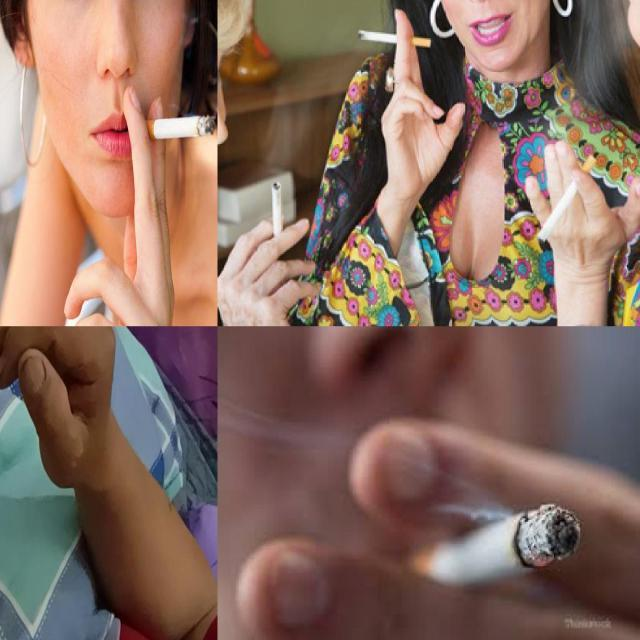smoking: (408, 504, 584, 594), (536, 154, 598, 242), (133, 114, 217, 144), (358, 28, 432, 50), (270, 180, 284, 242)
